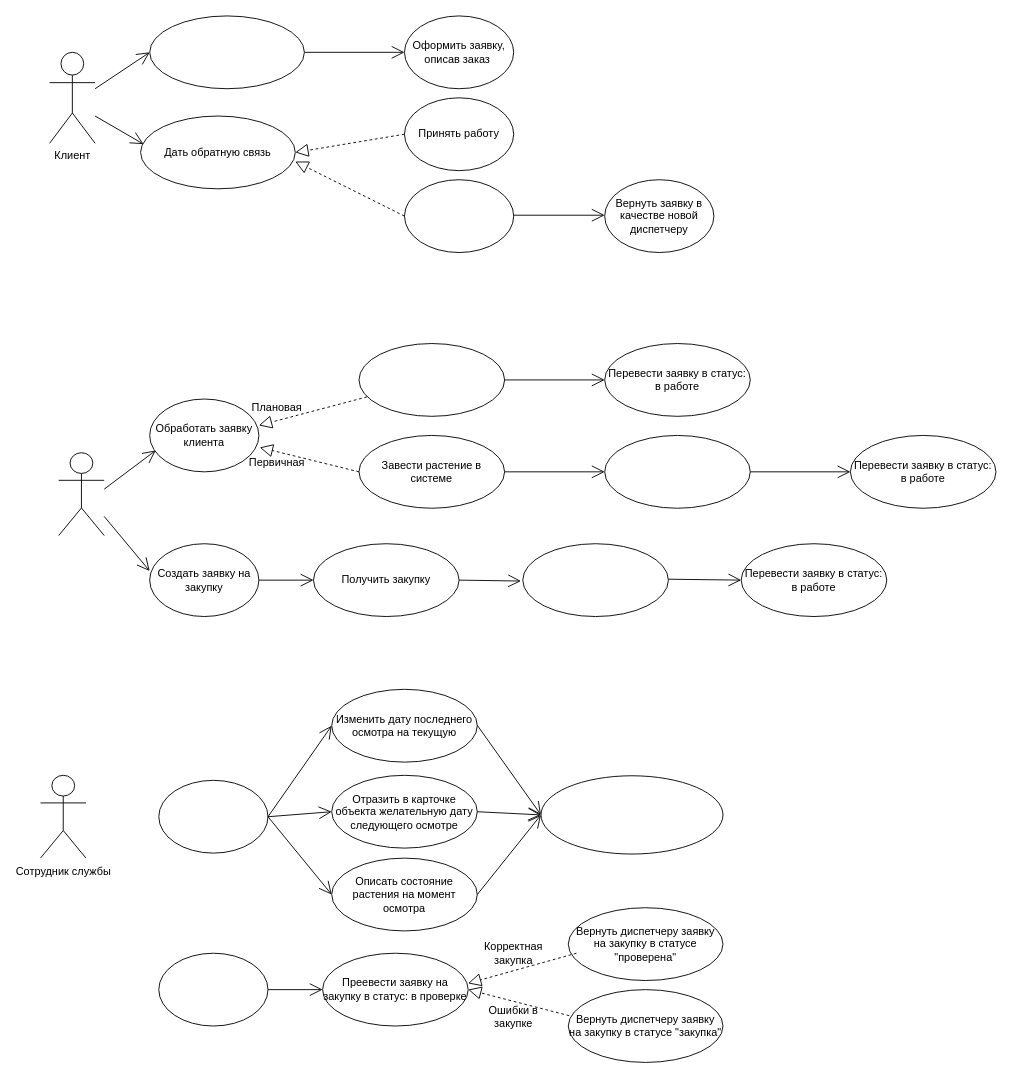
This 1012x1078 diagram has some shape labels left out. The box of each missing label's shape, as (x1, y1, x2, y2) in pixels:
Выполнить заявку: (158, 779, 268, 853)
Диспетчер: (58, 452, 104, 536)
Отклонить работу: (404, 179, 514, 253)
Перевести заявку в статус: выполнена для приемки работы клиентом: (540, 775, 723, 854)
Передать закупку на проверку: (522, 543, 668, 617)
Проверить закупку: (158, 952, 268, 1026)
Создать заявку: (149, 15, 304, 89)
Создать заявку на закупку растения: (604, 435, 750, 508)
Установить дату осмотра: (358, 343, 505, 416)
